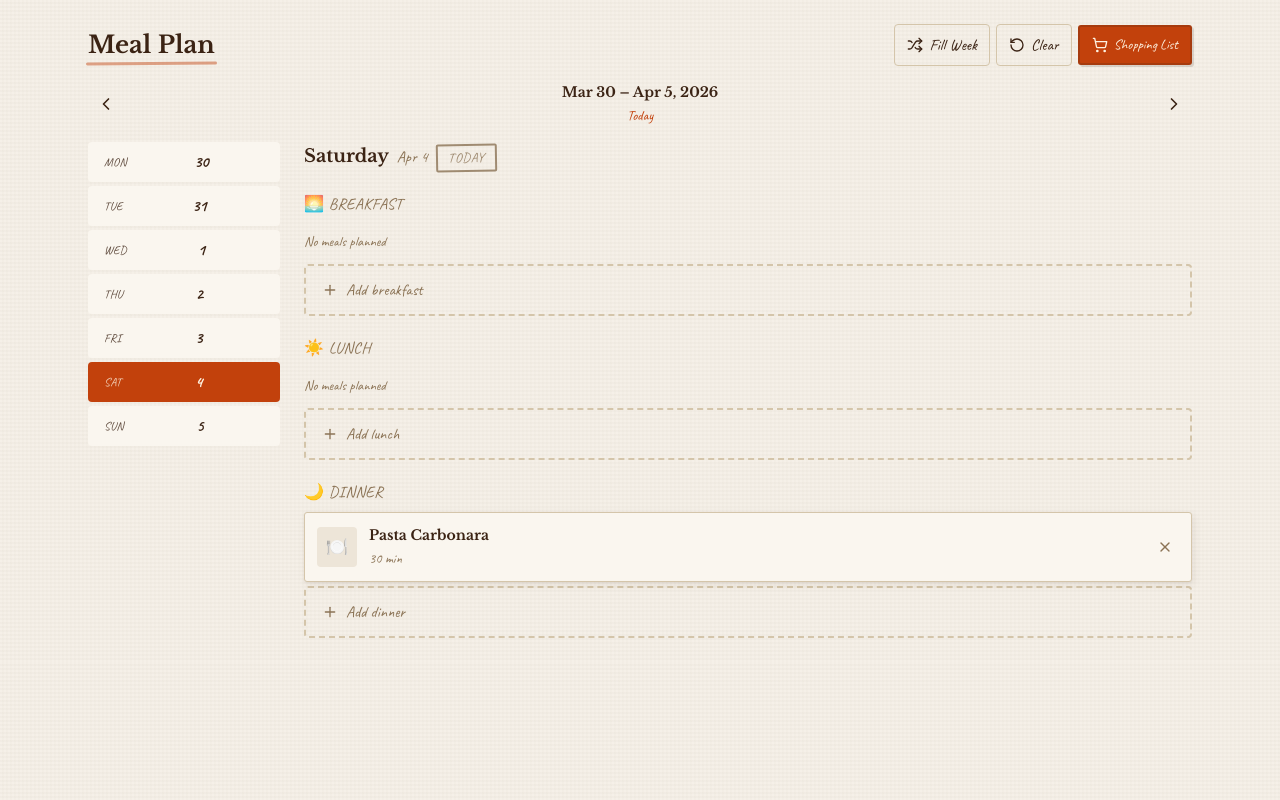
Scenario: Meal Plan › M2: 'Fill week' shows a confirmation before filling
Expected: the heading "Meal Plan" is shown, left=88, top=29, right=215, bottom=61
Click the button titled "Fill week with random recipes" at {"x": 942, "y": 45}, box left=894, top=24, right=990, bottom=66
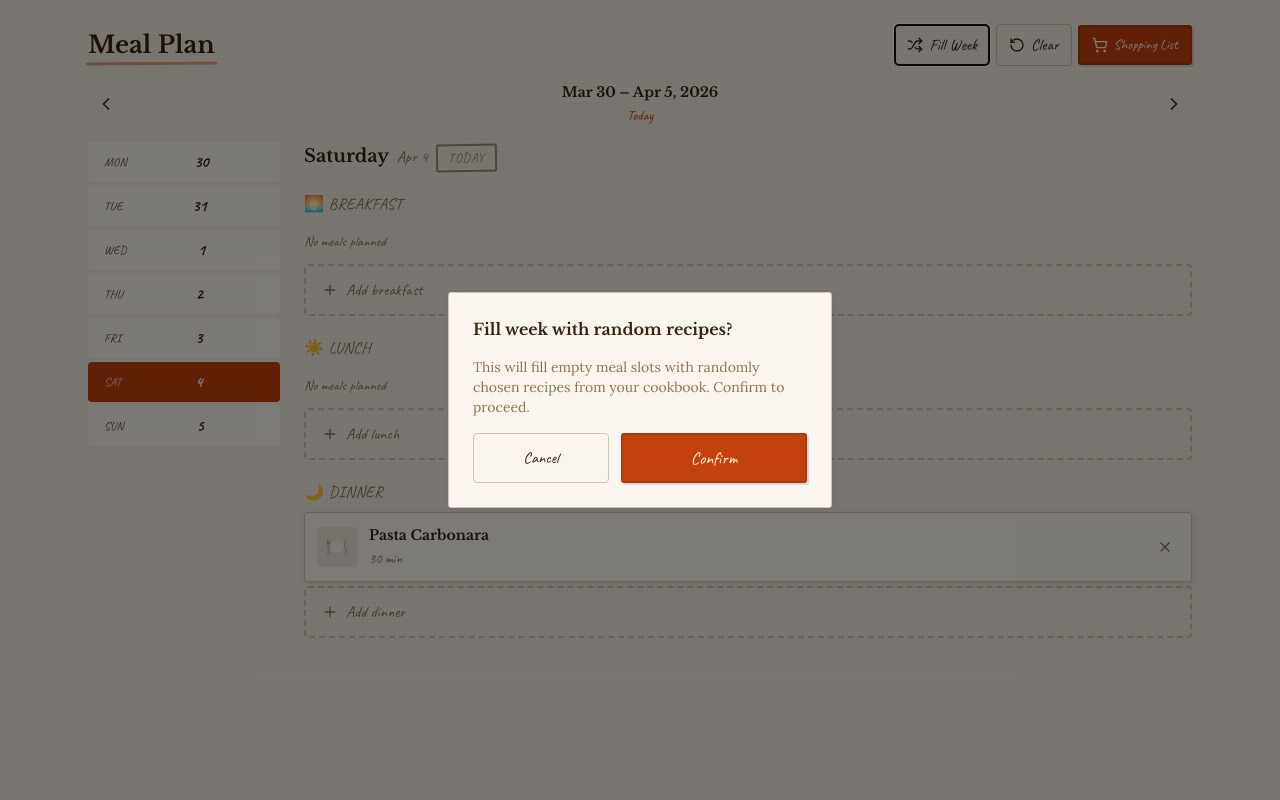
Expected: the heading "Fill week with random recipes?" is shown, left=473, top=319, right=732, bottom=339
Expected: the button "Confirm" is shown, left=621, top=433, right=807, bottom=483
